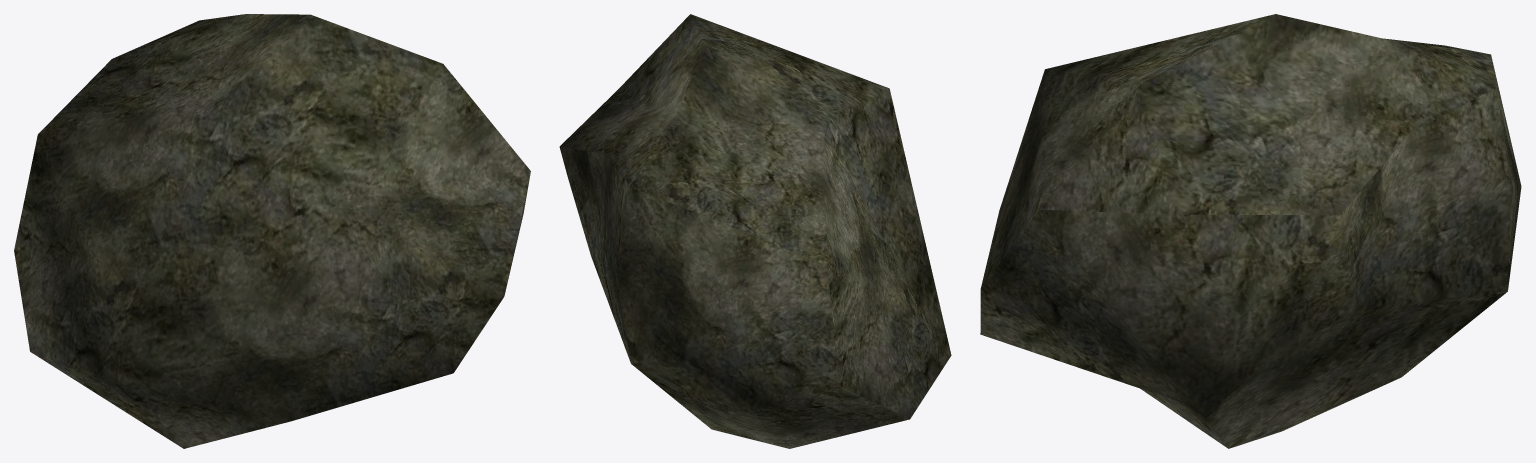
Rendered from MIN_COB_STONE_V1_10.glb.
The picture shows the model from 3 angles, left to right: view 1: azimuth 30°, elevation 25°; view 2: azimuth 150°, elevation 25°; view 3: azimuth 270°, elevation 25°; orthographic projection. The views are drawn at different scales.
Visible parts, largest first — view 1: Mesh; view 2: Mesh; view 3: Mesh.
Part boxes in pixels (x1,y1,x2,y2): Mesh: (14, 14, 530, 448); Mesh: (559, 14, 951, 448); Mesh: (980, 14, 1521, 448).
Bounding box in the file's own units: 0.8467 × 0.7816 × 0.8477.
Materials: 1 (1 with a texture image).
